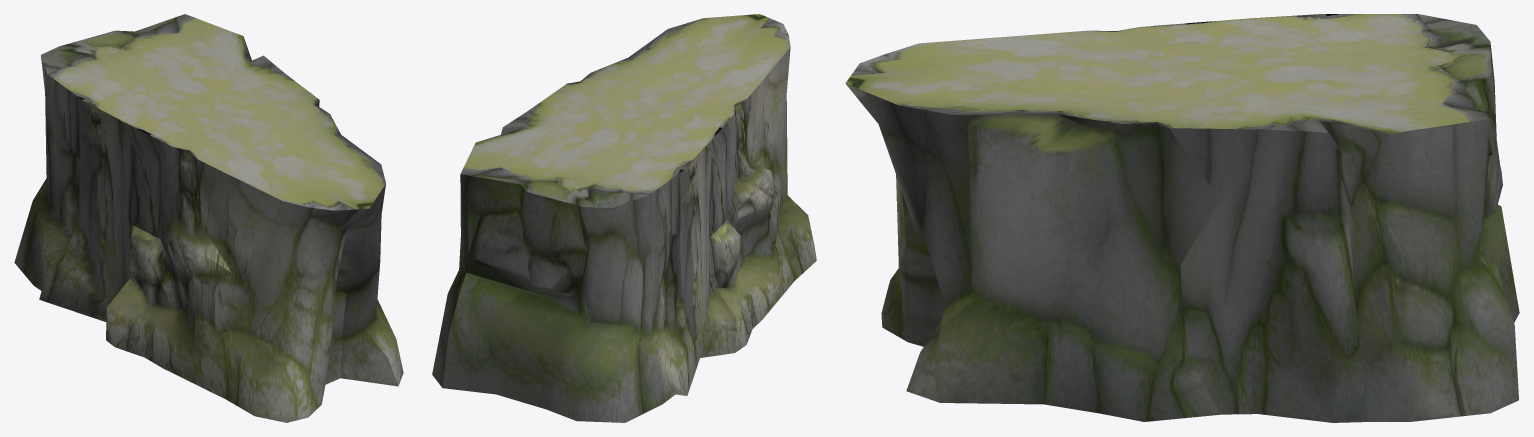
The model's file is GateSpur_LOD2.fbx.
3 renders of one model, left to right at view 1: azimuth 30°, elevation 25°; view 2: azimuth 150°, elevation 25°; view 3: azimuth 270°, elevation 25°, orthographic. The views are drawn at different scales.
Visible parts, largest first — view 1: GateSpur_LOD2; view 2: GateSpur_LOD2; view 3: GateSpur_LOD2.
Boxes of the visible parts, x1,y1,x2,y2 form: GateSpur_LOD2: (14, 14, 403, 422); GateSpur_LOD2: (432, 14, 816, 422); GateSpur_LOD2: (845, 14, 1519, 422).
Bounding box in the file's own units: 9.17 × 8.06 × 17.7.
Materials: 1 (1 with a texture image).
